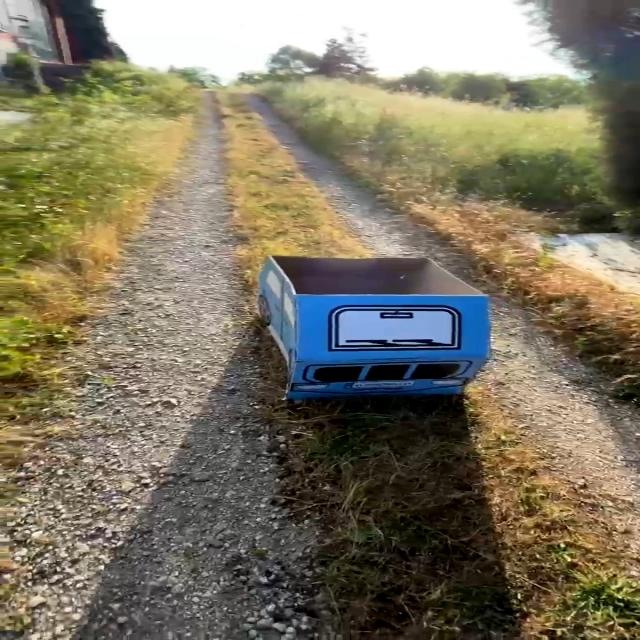blue_car: (185, 210, 510, 427)
